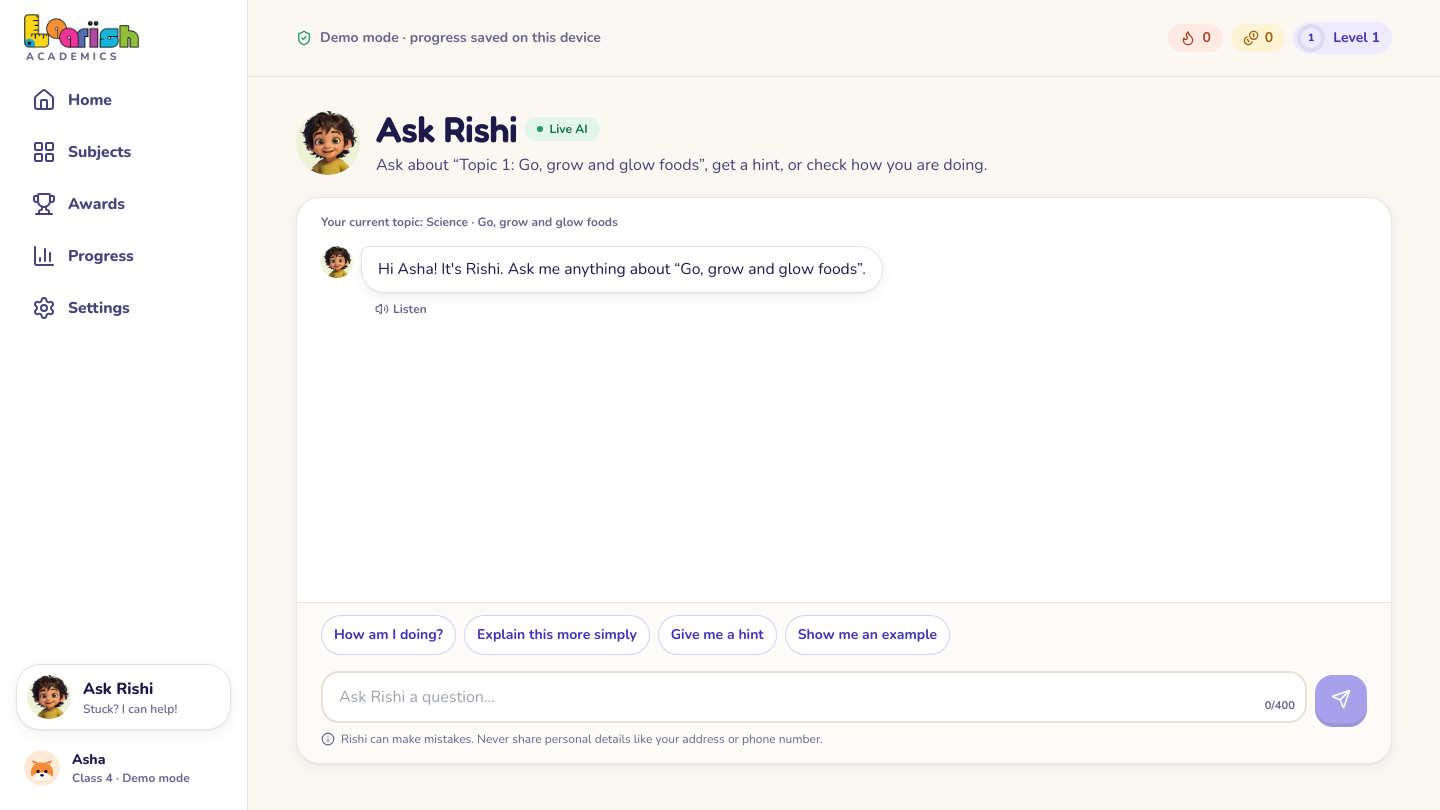
Mentor chat in the browser › shows a friendly retryable error when the provider fails, and keeps the question
This screenshot has width=1440, height=810.
Type "Give me a clue about friction" into the text box labelled "Ask Rishi a question..." at (814, 697), box [321,671,1307,723]
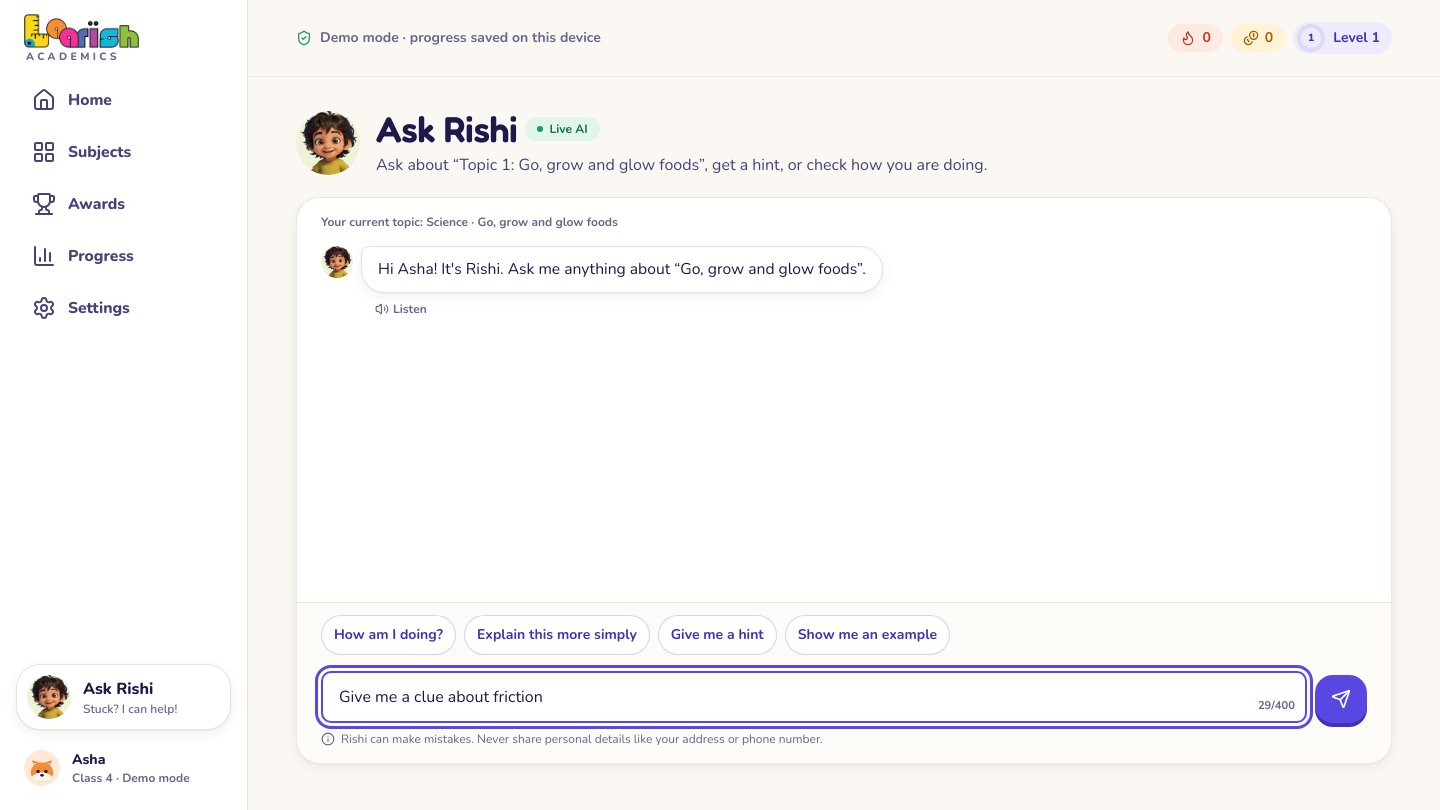
Click the button named "send question" at (1341, 699), box [1315,675,1367,723]
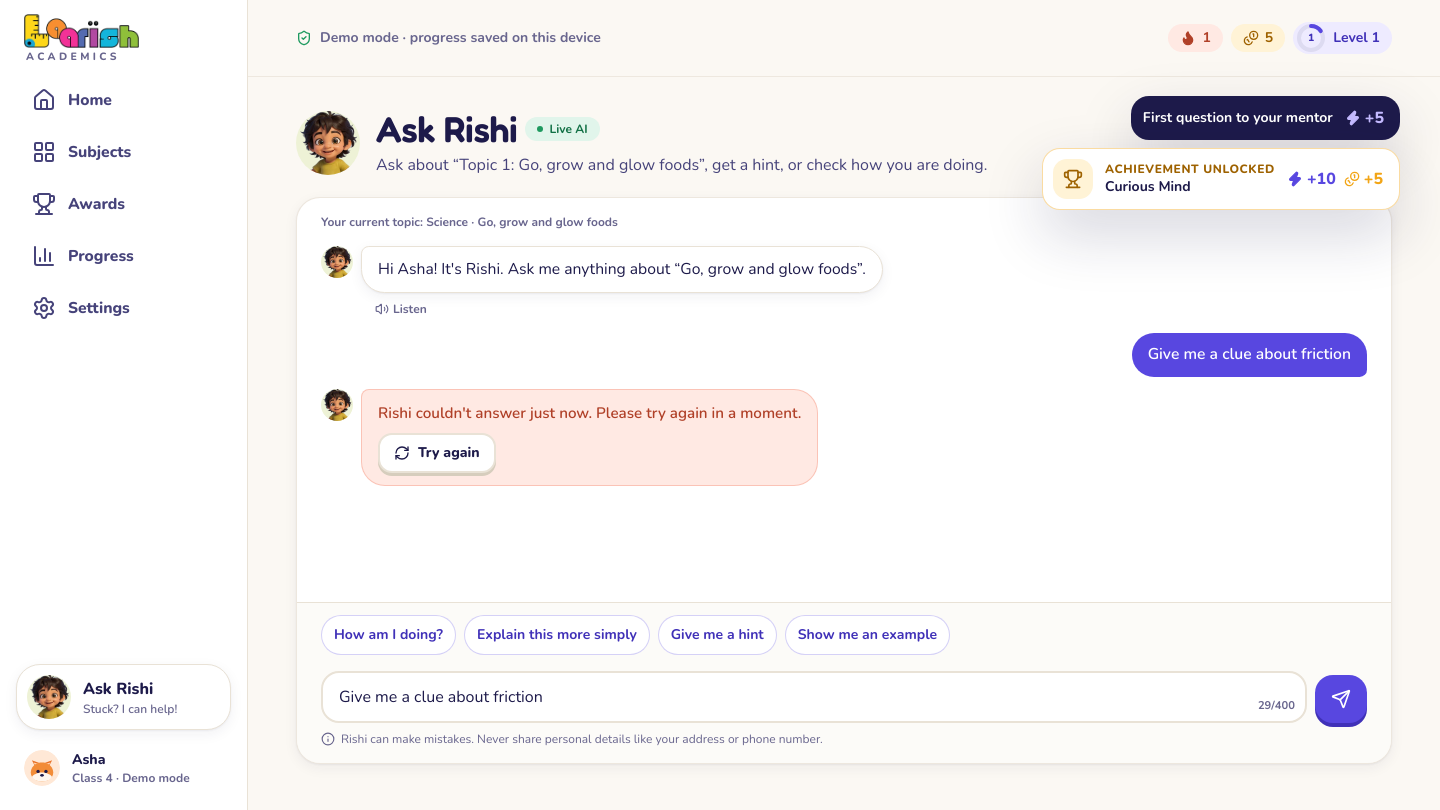
Check: the message "Rishi couldn't answer just now. Please try again in a moment. Try again" is shown, box [361,389,818,486]
Click the button "Try again" at (437, 453), box [378,433,496,473]
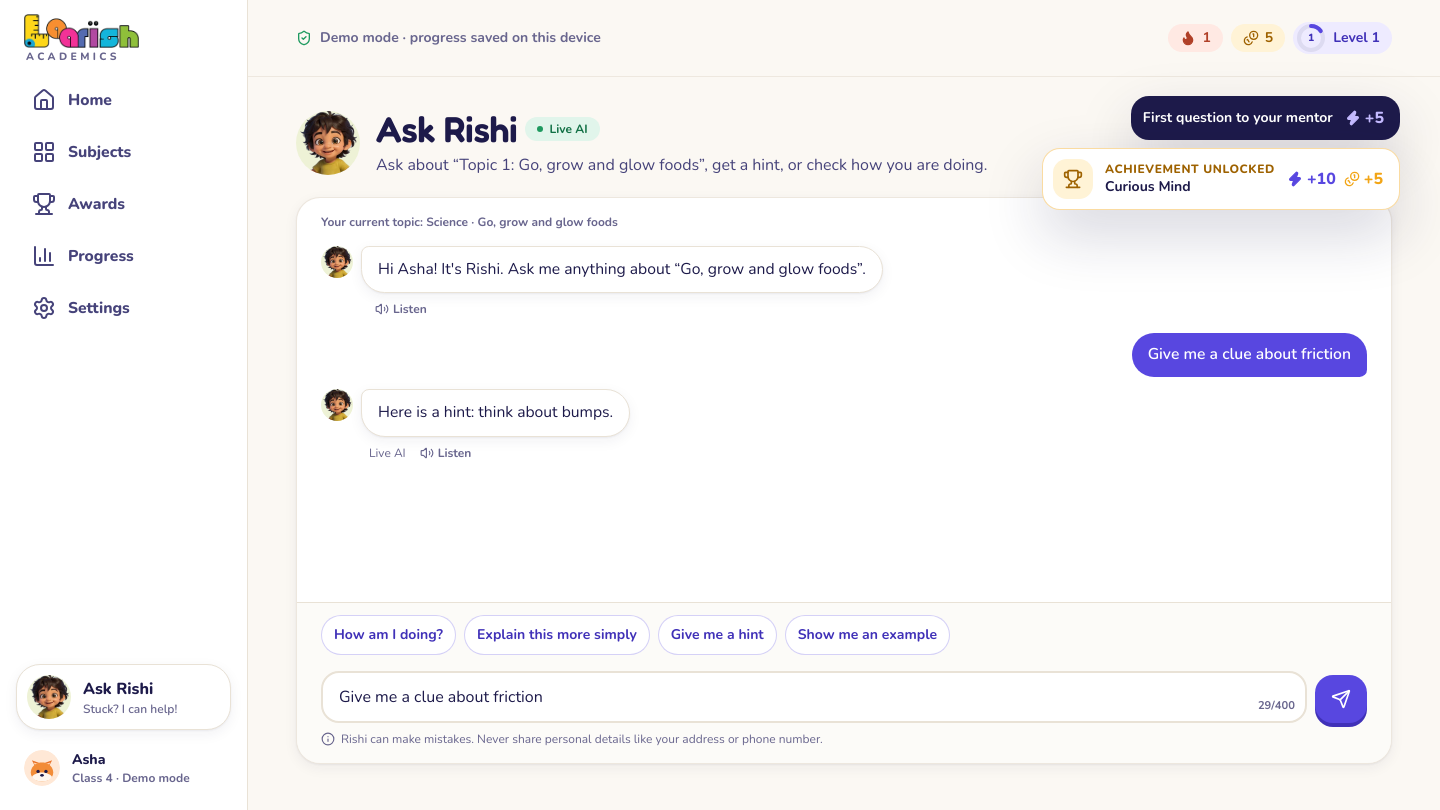
Check: the text "Here is a hint: think about bumps." is shown, box [378,400,613,426]
